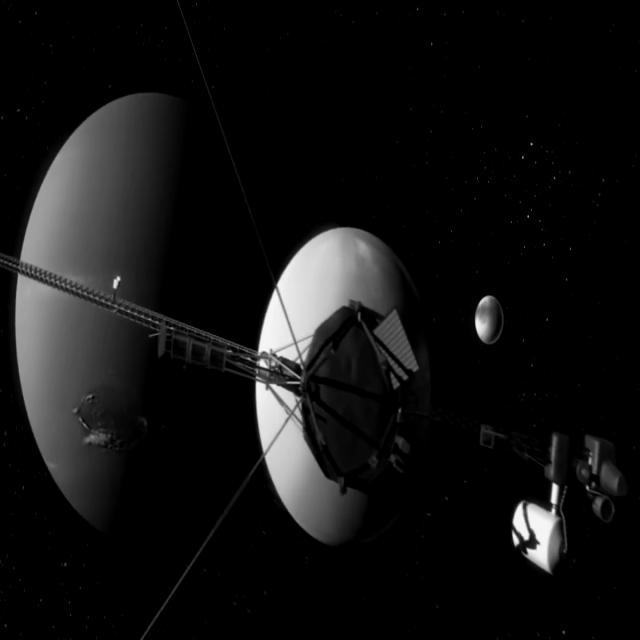large_debris: (458, 254, 511, 364)
medium_debris: (0, 143, 640, 635)
